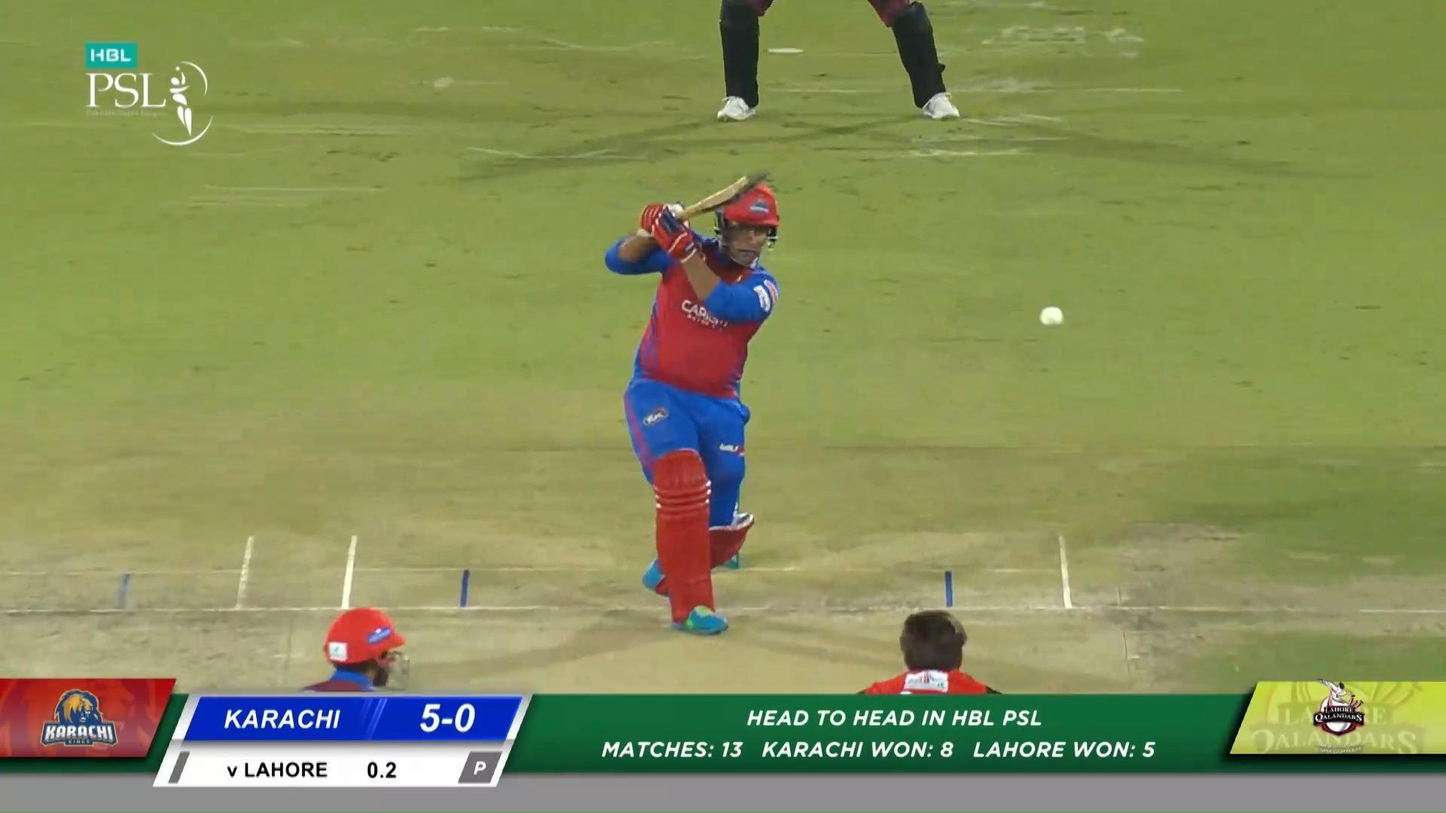BM 1: (603, 164, 784, 638)
BO: (814, 605, 1038, 813)
